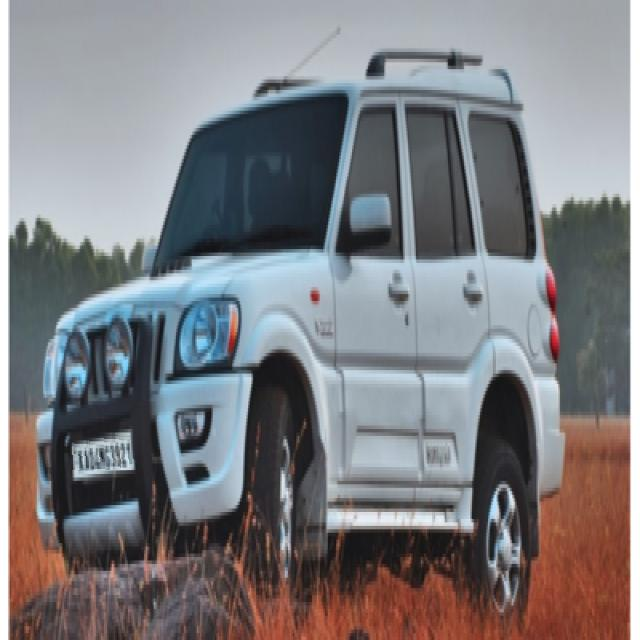licence: (66, 432, 136, 470)
